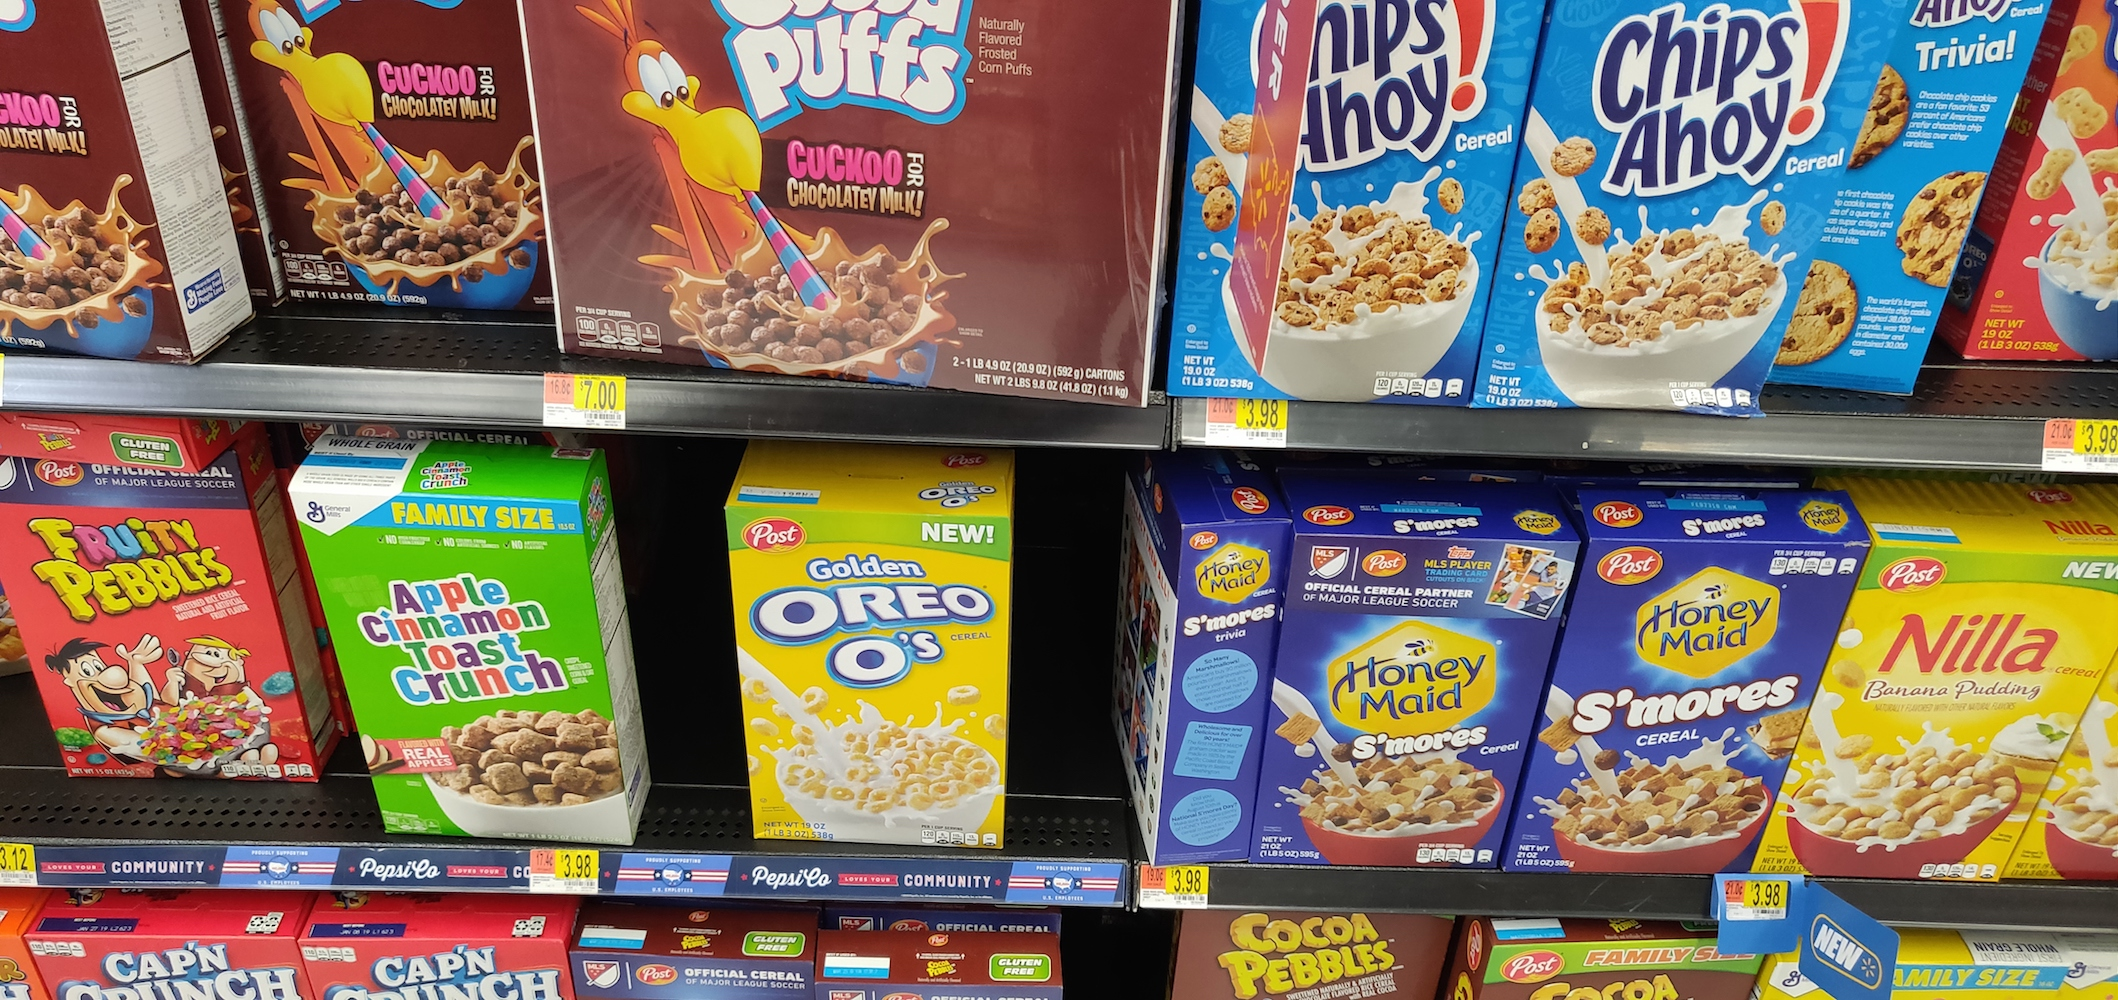Chips Ahoys-565717529: (1520, 1, 1838, 422), (1187, 1, 1524, 397)
Honey Maid Graham -563424385: (1567, 527, 1795, 877), (1282, 535, 1520, 850)
Nilla -568301014: (1829, 522, 2094, 895)
Oreo Golden-568301011: (729, 489, 1014, 820)
